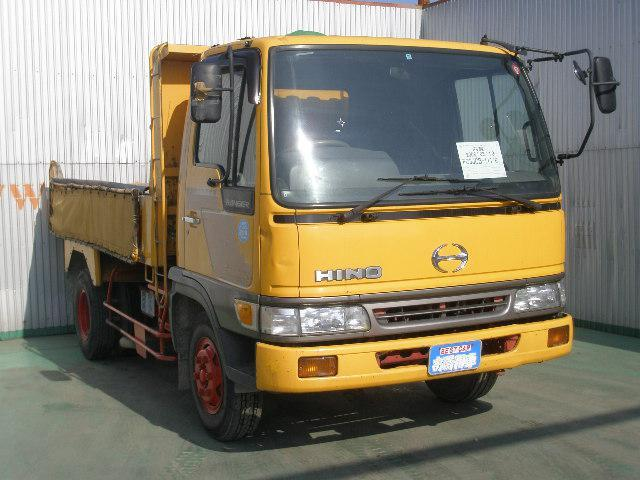truck: (53, 31, 611, 436)
